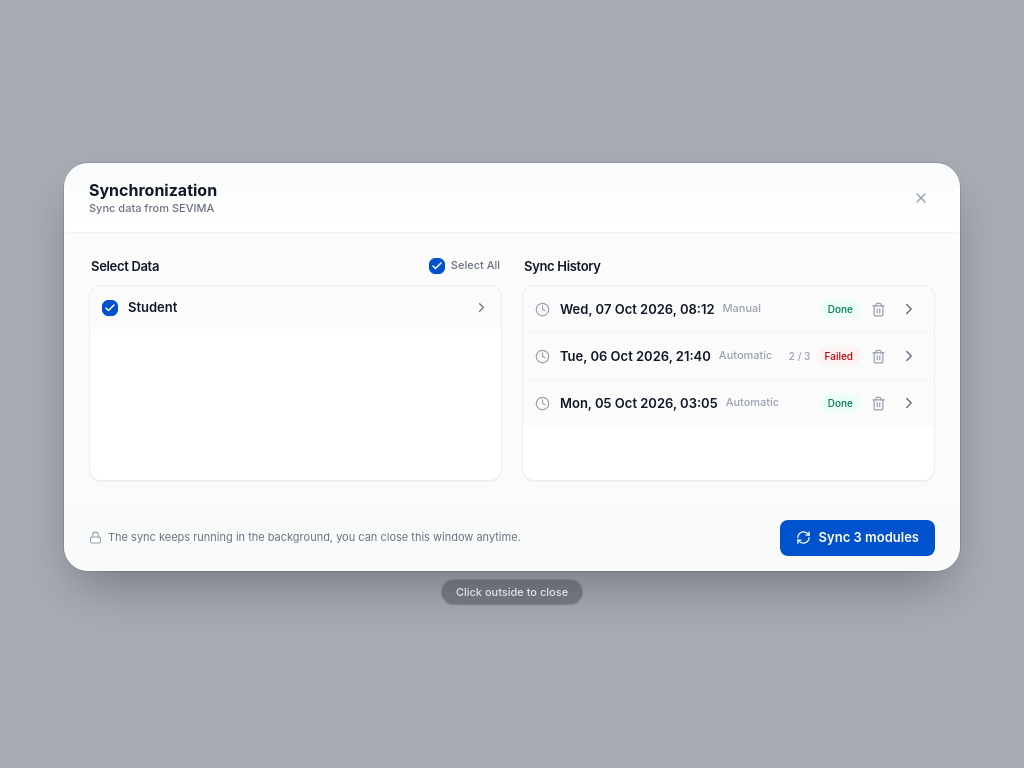
Test: Synchronization modal terhubung ke server › pilihan tertutup sejak awal: ">" membukanya, checkbox kelompok menyetel isinya
Expected: the checkbox named "Select every module in Student" is checked, [102,300,118,316]
Click the button with aria-label "Expand Student group" at point(153, 307), box [128,298,489,317]
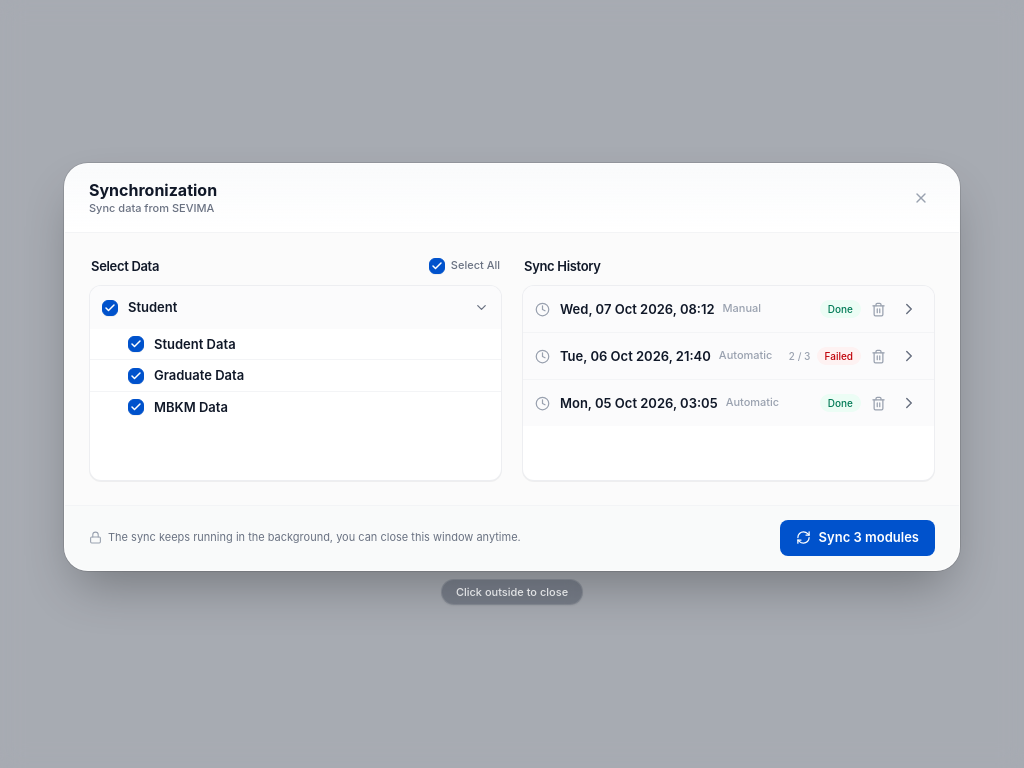
Click the checkbox named "Select every module in Student" at point(110, 308), box [102,300,118,316]
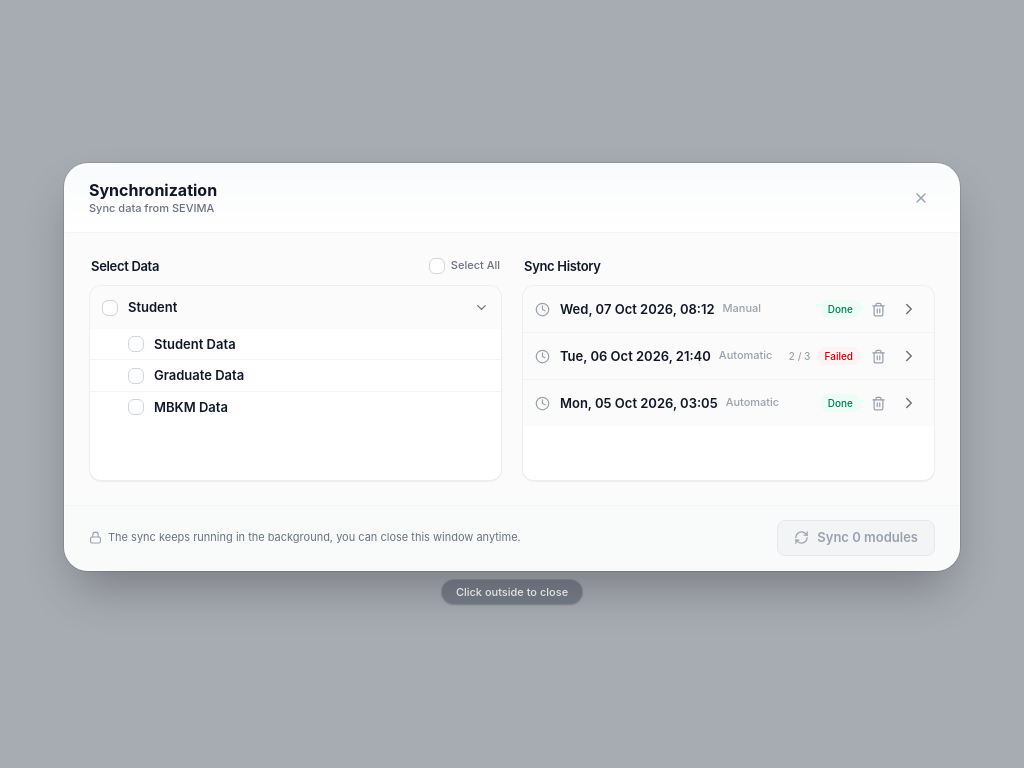
Expected: the checkbox named "Select Student Data" is not checked, [90,329,501,360]
Expected: the button "Sync 0 modules" is disabled, [777,520,935,556]
